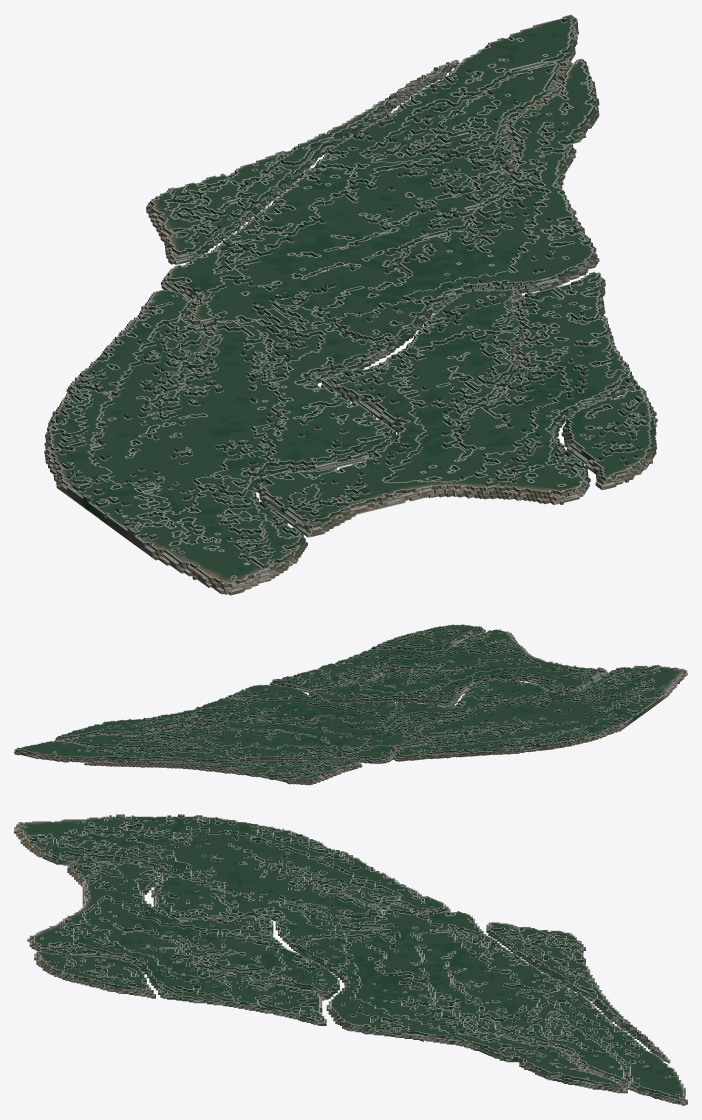
Rendered from ilhaDoFarol.fbx.
3 renders of one model, top to bottom at view 1: azimuth 30°, elevation 25°; view 2: azimuth 150°, elevation 25°; view 3: azimuth 270°, elevation 25°, orthographic. The views are drawn at different scales.
Parts seen in each view (by area): view 1: ilhaDoFarol; view 2: ilhaDoFarol; view 3: ilhaDoFarol.
Boxes of the visible parts, bbox=[...] form: ilhaDoFarol: bbox=[44, 14, 657, 595]; ilhaDoFarol: bbox=[14, 624, 687, 785]; ilhaDoFarol: bbox=[14, 814, 687, 1105].
Size of the model in its own units: 30.2 by 0.4 by 30.4.
1 material, 1 textured.
